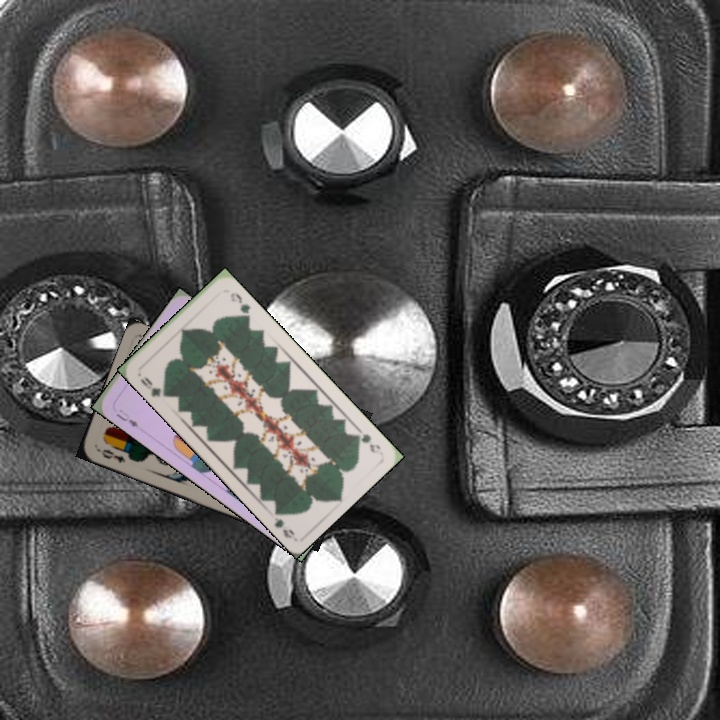EO: (94, 445, 128, 466)
EU: (112, 405, 141, 430)
G9: (350, 423, 383, 456), (136, 372, 169, 400)
